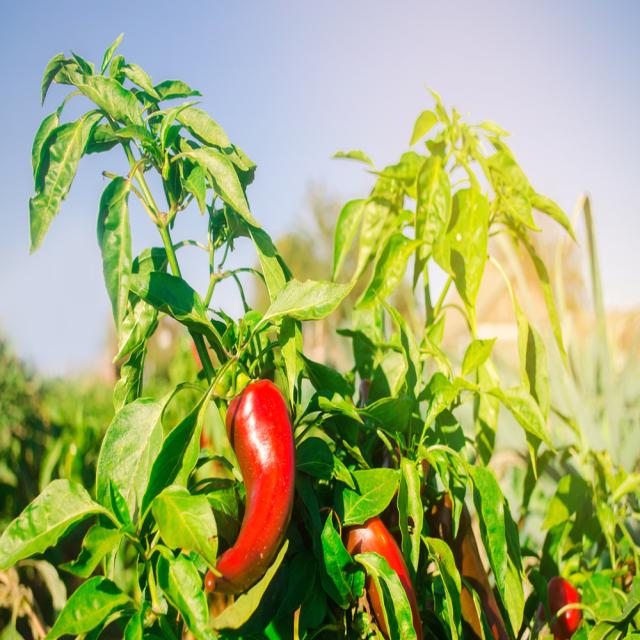Ripe: (205, 380, 295, 592), (344, 517, 422, 639), (546, 575, 583, 640)
